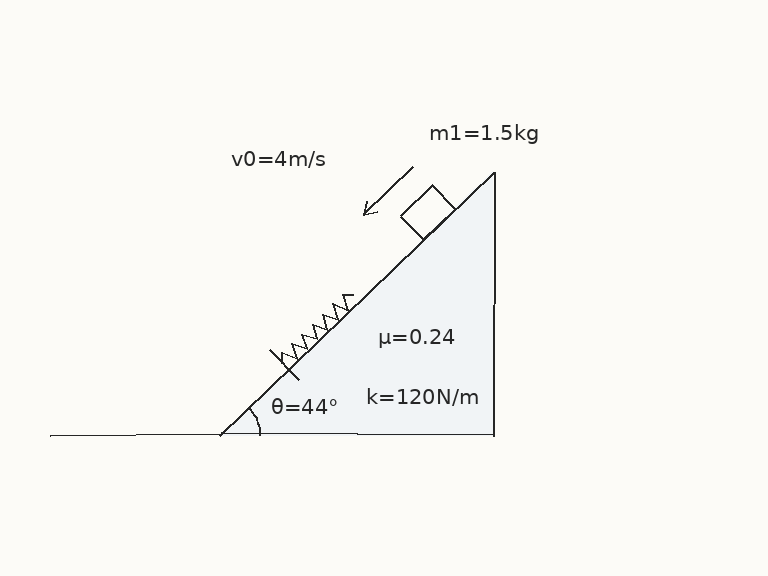block: (399, 183, 457, 241)
ramp: (218, 170, 495, 437)
spring: (280, 292, 355, 365)
